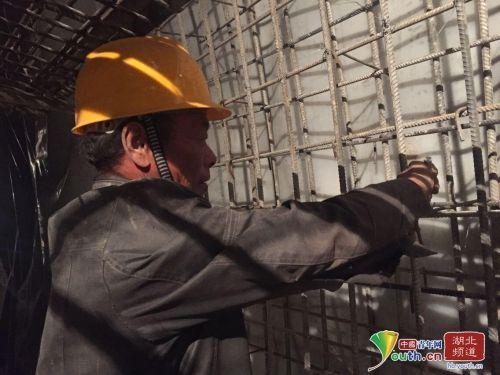hard-hat: (71, 34, 231, 136)
person: (34, 33, 440, 374)
